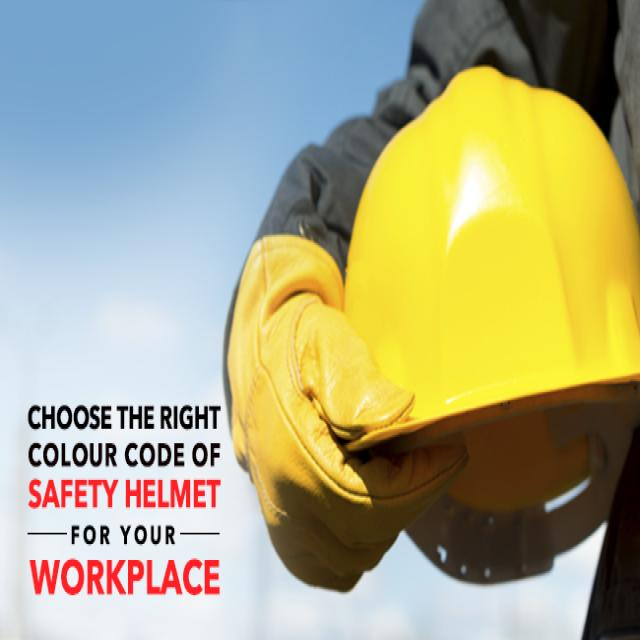helmet: (337, 57, 640, 593)
